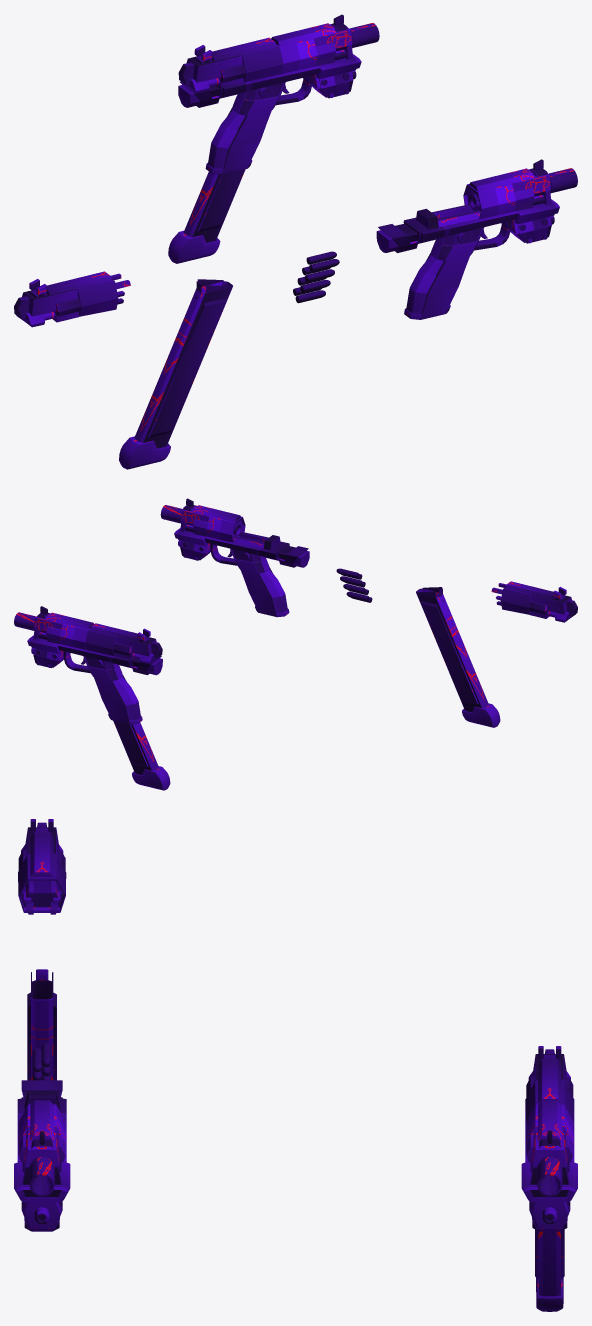
The model's file is SM_MachinePistol_Exploded.fbx.
3 views of the same model, one above another, from view 1: azimuth 30°, elevation 25°; view 2: azimuth 150°, elevation 25°; view 3: azimuth 270°, elevation 25° (orthographic). The views are drawn at different scales.
Parts seen in each view (by area): view 1: Mag, Barrell, Hammer, Grip, Grip.001, Hammer.001, Mag.001, PlatformThing, Barrell.001, PlatformThing.001, Bullet_9mm, Laser.001 (+3 smaller); view 2: Mag, Barrell, Hammer, Grip.001, Grip, Hammer.001, Mag.001, PlatformThing, Barrell.001, PlatformThing.001, Bullet_9mm, Laser (+2 smaller); view 3: Hammer, Barrell, Barrell.001, Mag, Mag.001, PlatformThing, Hammer.001, PlatformThing.001, Muzzle, Muzzle.001, Laser, Laser.001 (+1 smaller).
Boxes of the visible parts, x1,y1,x2,y2 form: Mag: (119, 279, 232, 469); Barrell: (416, 168, 551, 229); Hammer: (14, 271, 130, 327); Grip: (404, 227, 483, 319); Grip.001: (205, 82, 285, 174); Hammer.001: (178, 37, 282, 92); Mag.001: (168, 169, 245, 263); PlatformThing: (376, 199, 559, 252); Barrell.001: (271, 23, 352, 73); PlatformThing.001: (178, 54, 361, 107); Bullet_9mm: (293, 251, 339, 303); Laser.001: (303, 71, 353, 98); Mag: (416, 587, 500, 727); Barrell: (180, 505, 280, 550); Hammer: (491, 581, 577, 622); Grip.001: (83, 656, 142, 724); Grip: (230, 548, 289, 617); Hammer.001: (85, 623, 162, 663); Mag.001: (113, 720, 170, 790); PlatformThing: (174, 528, 309, 567); Barrell.001: (33, 612, 93, 649); PlatformThing.001: (27, 635, 162, 675); Bullet_9mm: (336, 568, 372, 602); Laser: (180, 540, 217, 560); Hammer: (18, 822, 66, 914); Barrell: (18, 1091, 65, 1184); Barrell.001: (526, 1100, 573, 1184); Mag: (27, 969, 56, 1080); Mag.001: (535, 1229, 564, 1311); PlatformThing: (14, 1080, 70, 1202); Hammer.001: (525, 1049, 573, 1122); PlatformThing.001: (521, 1099, 577, 1202); Muzzle: (29, 1156, 54, 1224); Muzzle.001: (537, 1156, 562, 1224); Laser: (21, 1201, 62, 1229); Laser.001: (529, 1201, 570, 1229).
Bounding box in the file's own units: 73.87 × 50.62 × 26.07.
